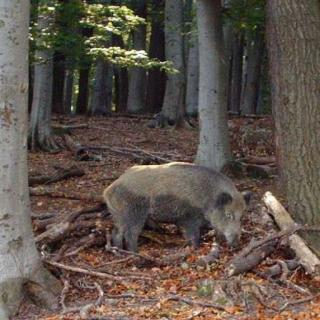Pig: (74, 123, 248, 259)
